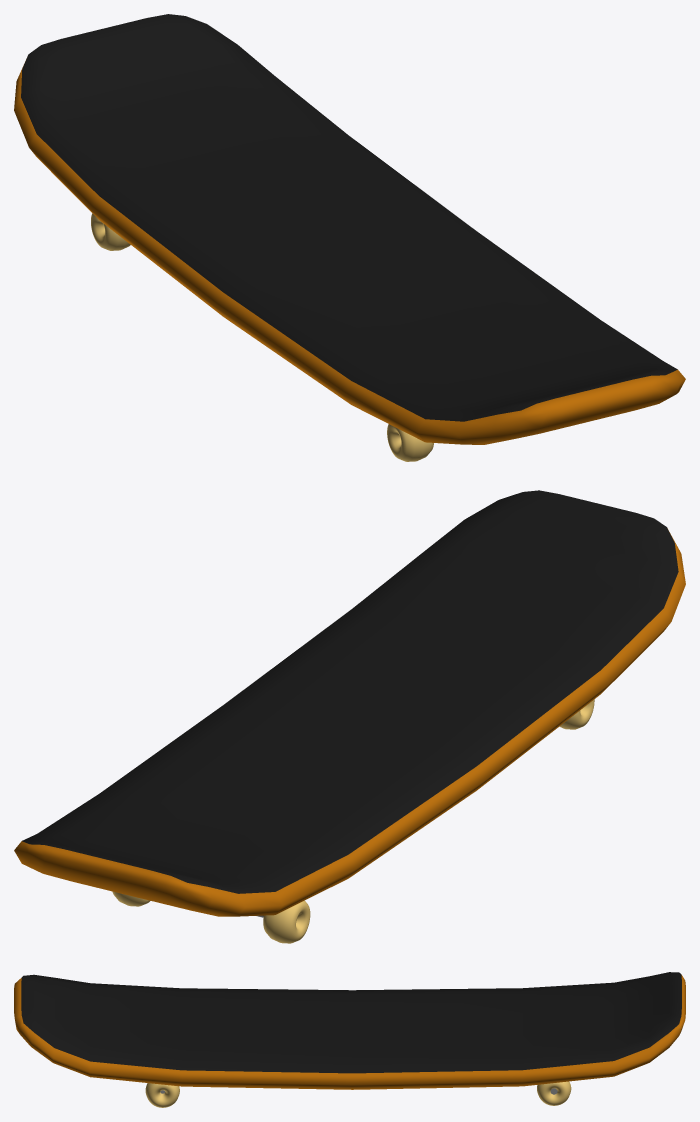
The model's file is Skateboard7.fbx.
3 renders of one model, top to bottom at view 1: azimuth 30°, elevation 25°; view 2: azimuth 150°, elevation 25°; view 3: azimuth 270°, elevation 25°, orthographic. The views are drawn at different scales.
Visible parts, largest first — view 1: Cube, Cylinder, Torus.003; view 2: Cube, Torus.003; view 3: Cube, Cylinder, Torus.004.
Boxes of the visible parts, x1,y1,x2,y2 form: Cube: [14, 14, 685, 444]; Cylinder: [387, 424, 433, 461]; Torus.003: [91, 213, 130, 250]; Cube: [14, 490, 685, 916]; Torus.003: [263, 900, 310, 943]; Cube: [14, 972, 685, 1089]; Cylinder: [145, 1083, 179, 1107]; Torus.004: [537, 1081, 571, 1105].
Size of the model in its own units: 195 by 89.85 by 623.
